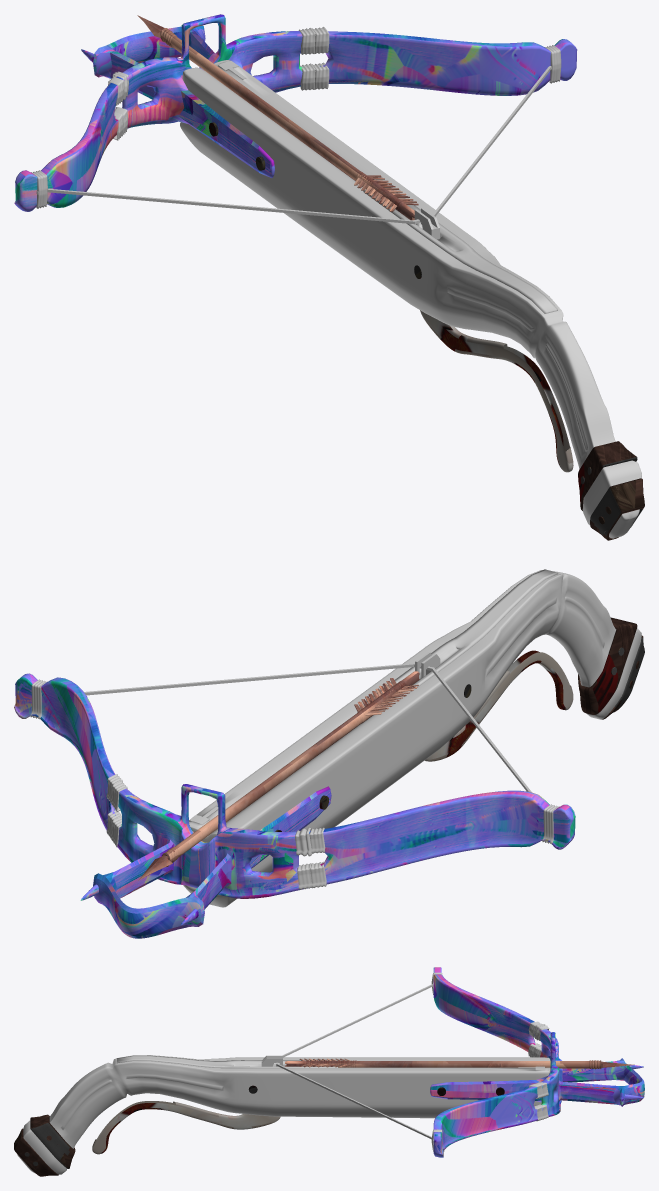
The model's file is crossbow.fbx.
3 views of the same model, one above another, from view 1: azimuth 30°, elevation 25°; view 2: azimuth 150°, elevation 25°; view 3: azimuth 270°, elevation 25° (orthographic). The views are drawn at different scales.
Visible parts, largest first — view 1: Object_6, Object_7, Object_2, Object_5, Object_4, Object_8, Object_10, Object_9; view 2: Object_7, Object_6, Object_2, Object_10, Object_8, Object_4, Object_5, Object_9; view 3: Object_6, Object_7, Object_2, Object_5, Object_4, Object_10, Object_8, Object_9.
Part boxes in pixels (x1,y1,x2,y2): Object_6: [180, 60, 641, 538]; Object_7: [14, 14, 577, 211]; Object_2: [137, 15, 418, 220]; Object_5: [420, 310, 573, 472]; Object_4: [578, 441, 644, 540]; Object_8: [31, 45, 561, 224]; Object_10: [218, 61, 557, 313]; Object_9: [108, 27, 329, 140]; Object_7: [14, 673, 575, 938]; Object_6: [183, 570, 641, 907]; Object_2: [138, 671, 419, 880]; Object_10: [189, 569, 557, 824]; Object_8: [30, 663, 559, 843]; Object_4: [578, 617, 644, 719]; Object_5: [424, 650, 573, 761]; Object_9: [106, 774, 326, 889]; Object_6: [17, 1055, 550, 1174]; Object_7: [430, 967, 644, 1157]; Object_2: [285, 1058, 634, 1069]; Object_5: [92, 1101, 280, 1154]; Object_4: [14, 1114, 75, 1176]; Object_10: [117, 1055, 544, 1070]; Object_8: [276, 972, 444, 1151]; Object_9: [528, 1021, 549, 1121].
Size of the model in its own units: 15730 by 5936 by 24577.
